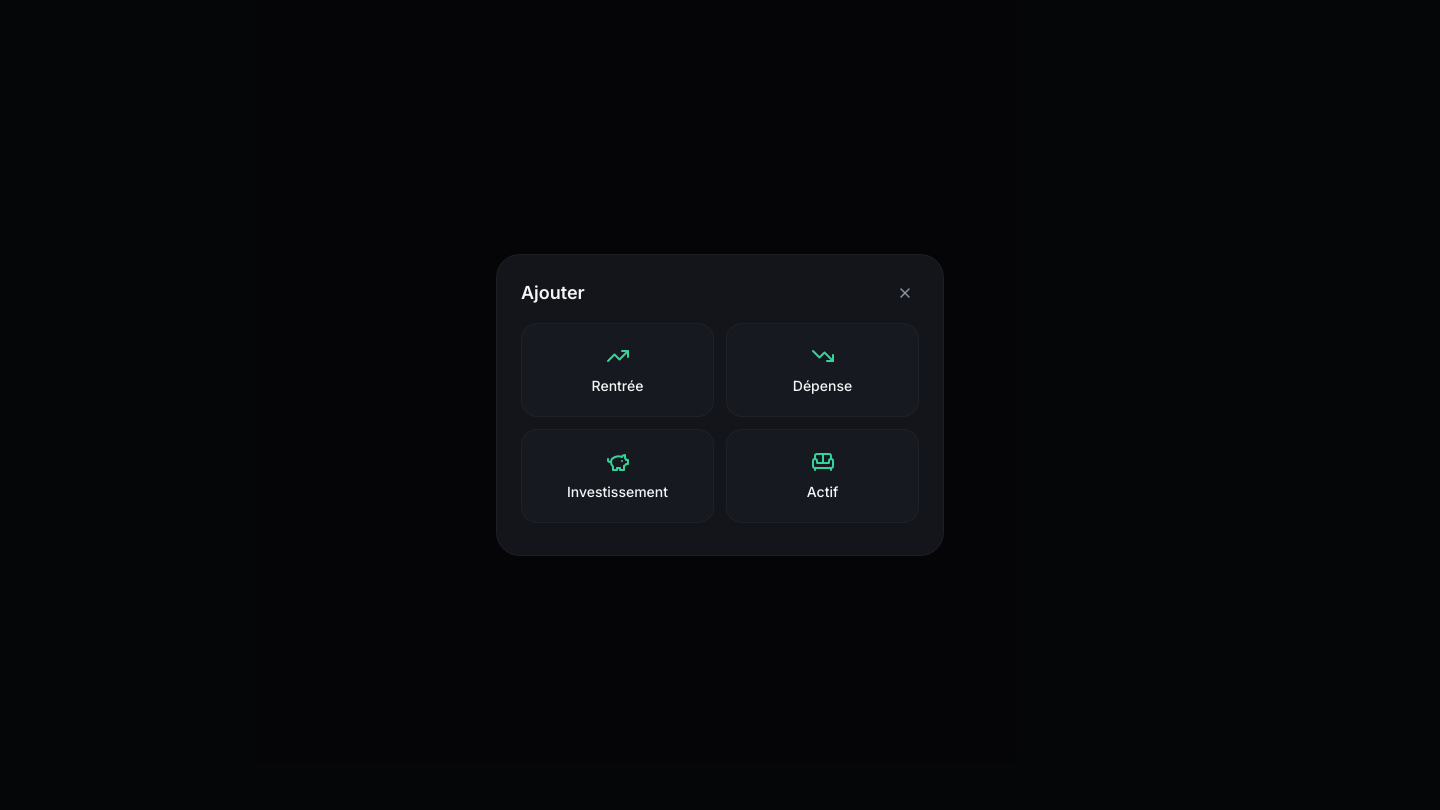
Test: AddMovementSheet › refuse une date vide
Click the button "Dépense": [822, 370] box [726,323,919,417]
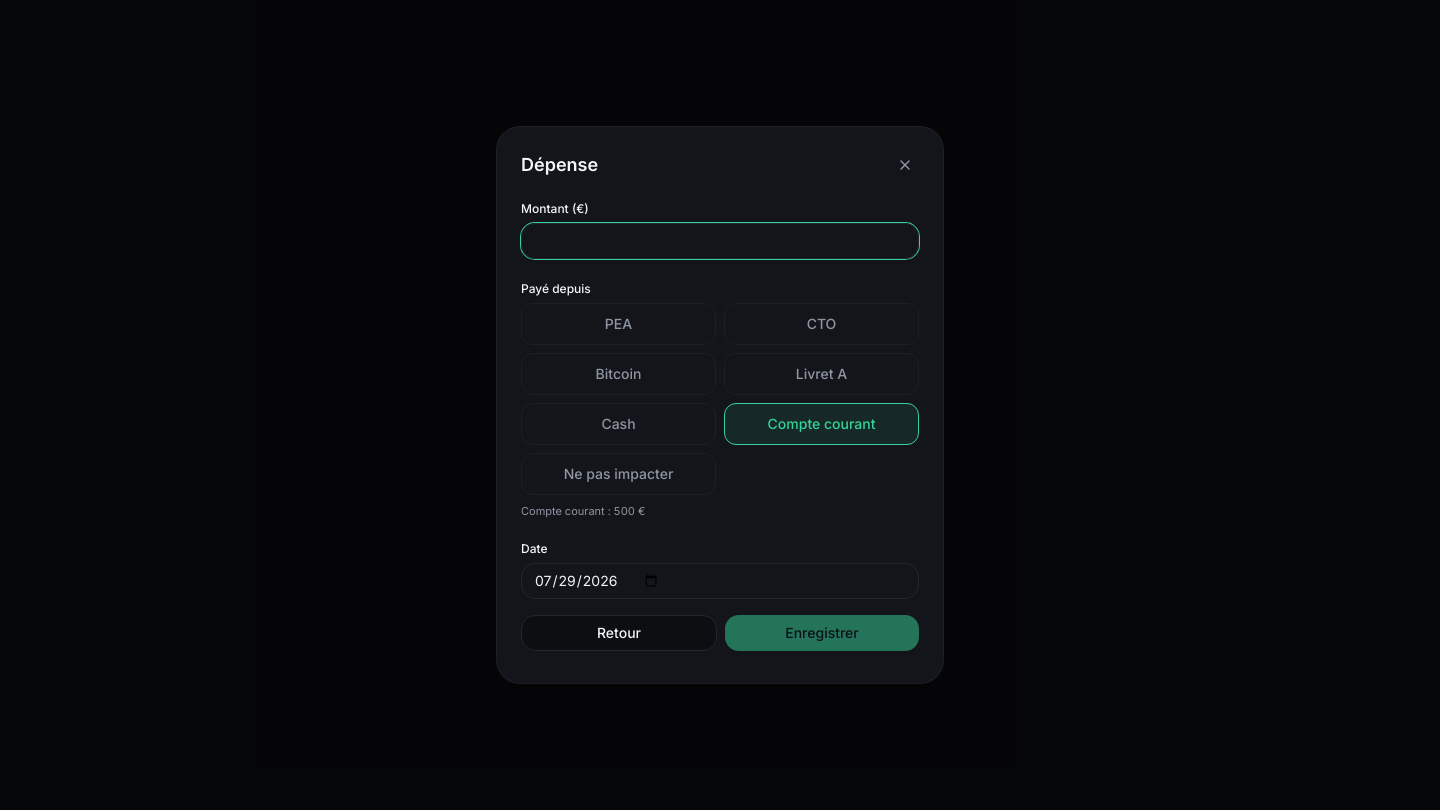
In the field labelled "Montant (€)": [720, 241] box [521,223,919,259], type "60"
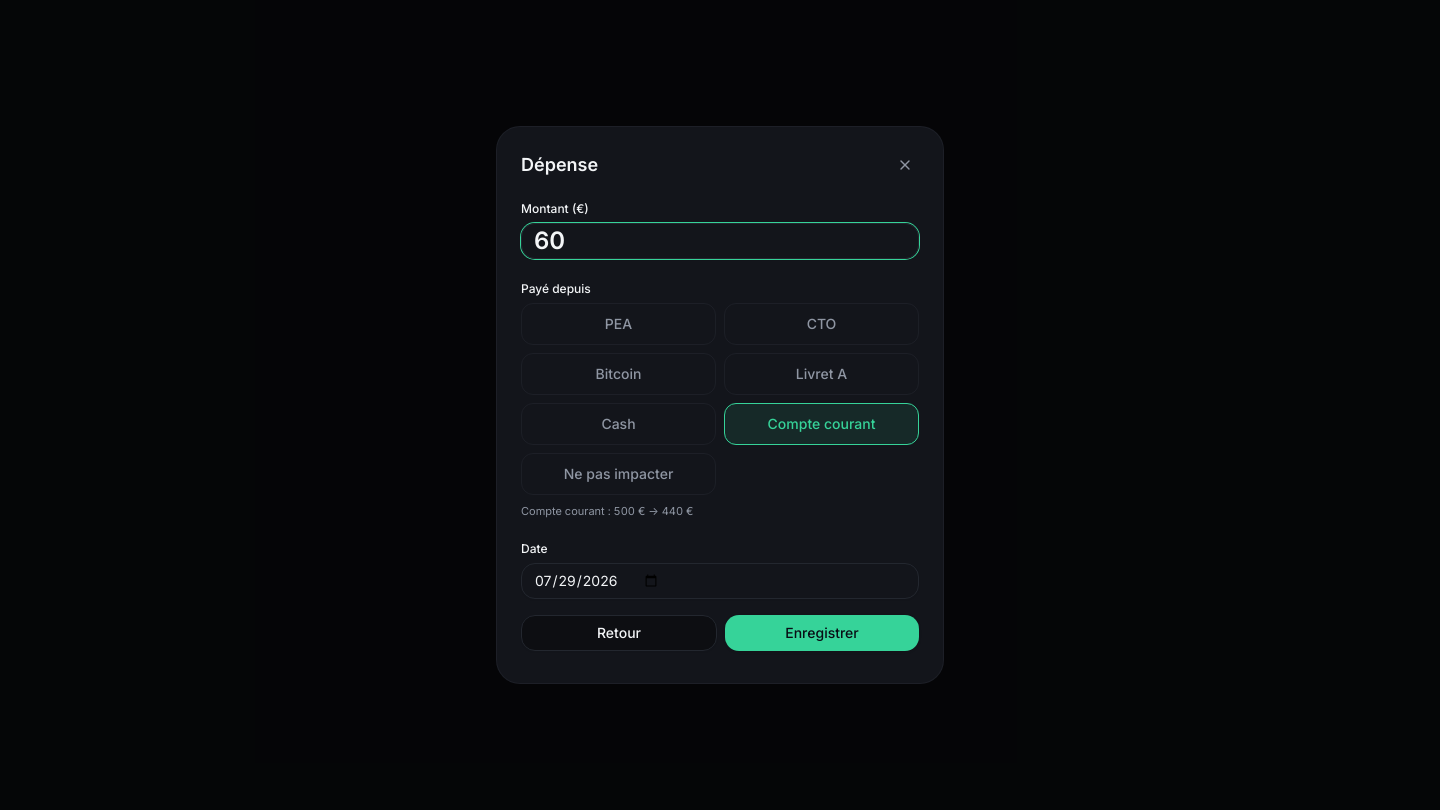
Clear the date field labelled "Date": [720, 581] box [521,563,919,599]
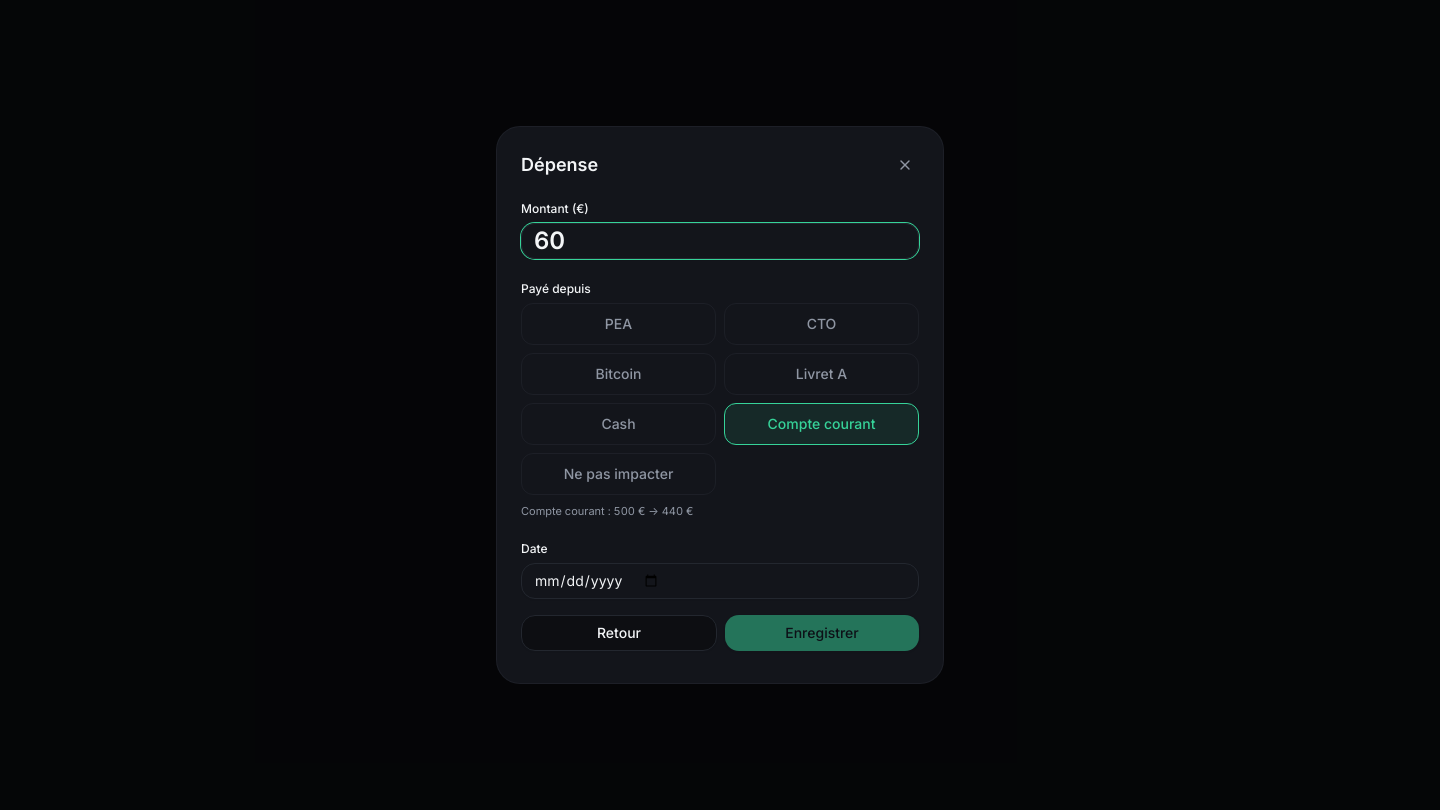
expect the button "Enregistrer" is disabled: met, box [725,615,919,651]
